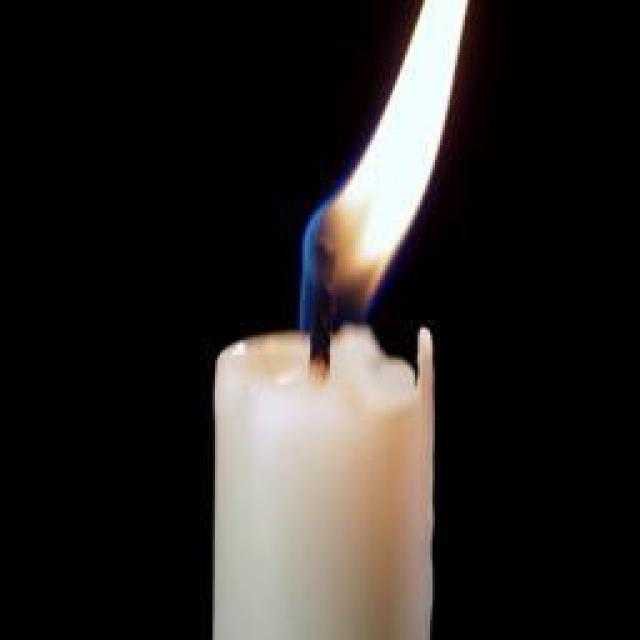Fire: (302, 0, 465, 332)
